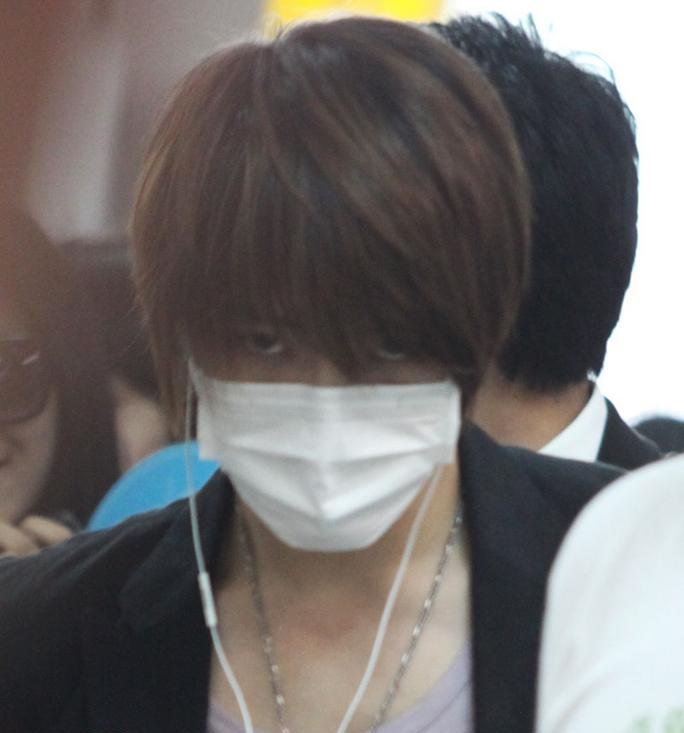face_mask: (207, 203, 466, 542)
